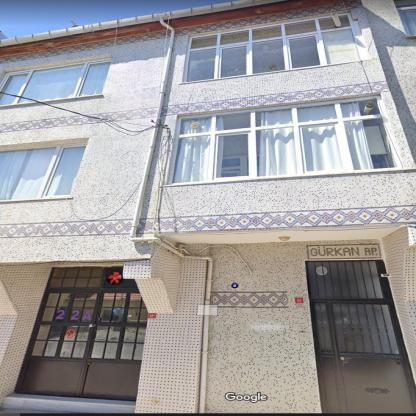door: (20, 292, 147, 396), (312, 301, 412, 412)
window: (170, 98, 396, 183), (184, 15, 358, 81), (0, 60, 111, 105), (1, 145, 85, 200), (307, 261, 381, 297), (48, 268, 104, 286), (399, 7, 416, 36)
